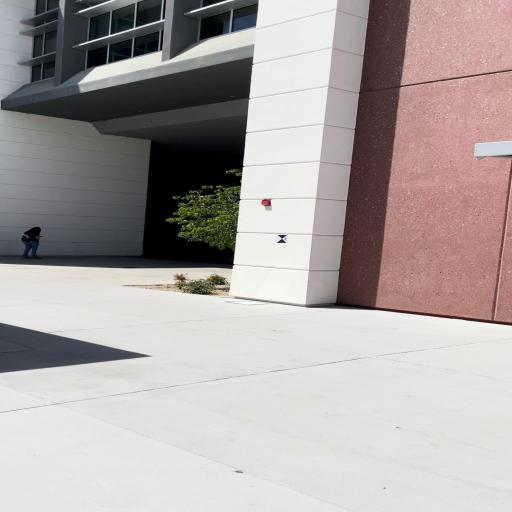target2: (276, 235, 288, 243)
